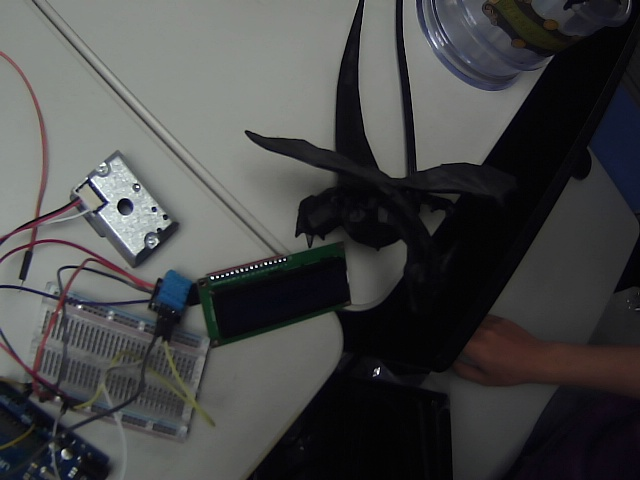charizard: (235, 1, 569, 286)
